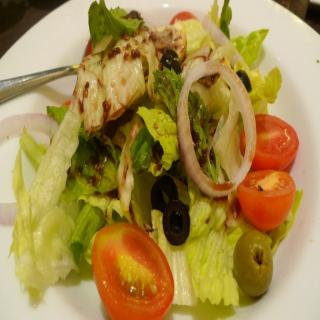tomato: (91, 222, 174, 319), (237, 163, 296, 231), (240, 113, 297, 169)
